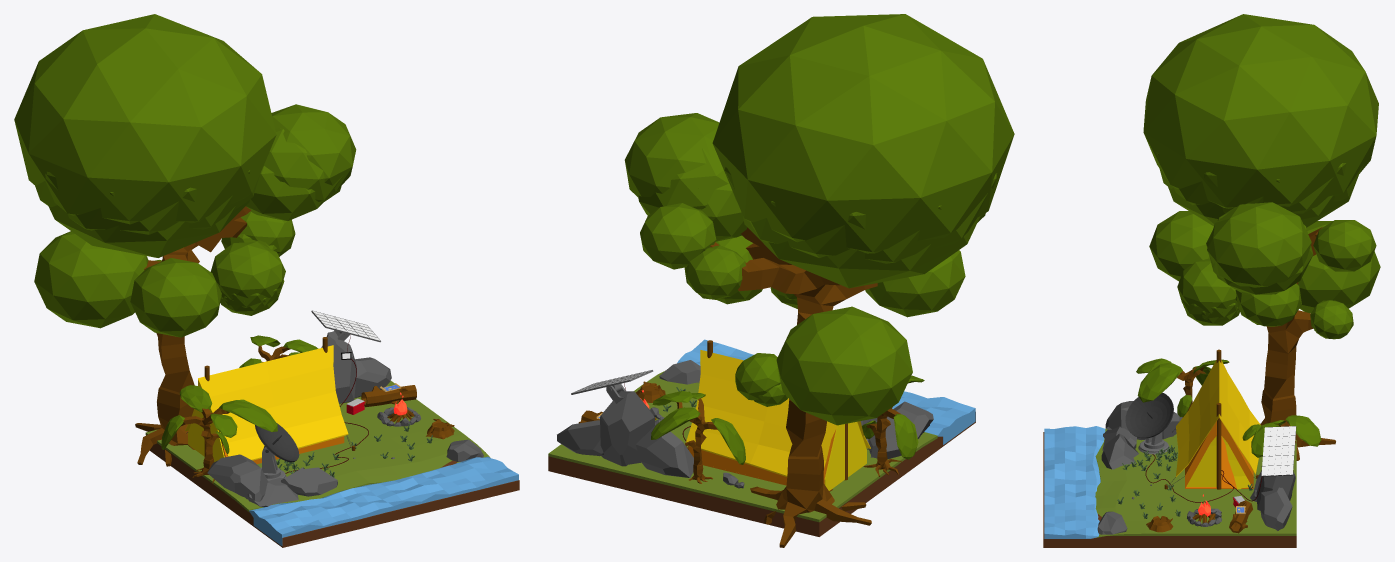
Rendered from camp_export6.glb.
The picture shows the model from 3 angles, left to right: view 1: azimuth 30°, elevation 25°; view 2: azimuth 150°, elevation 25°; view 3: azimuth 270°, elevation 25°; orthographic projection. The views are drawn at different scales.
Parts seen in each view (by area): view 1: Big tree leaves, Tent-main.001, Rock2.007, Rock2.003, Big Tree, Rock_1.004, Rock2.005, Small Tree Leaves 1, Rock2.001, Rock2.008, Satellite Dish, Small Tree 1 (+5 smaller); view 2: Big tree leaves, Big Tree, Tent-main.001, Rock2.007, Rock2.001, Rock2.005, Rock2.003, Rock2.008, Small Tree Leaves 2, Tent-main.002, Rock_1.004, Tent-main (+4 smaller); view 3: Big tree leaves, Rock2.007, Rock2.003, Tent-main.001, Big Tree, Rock2.005, Rock_1.004, Rock2.001, Small Tree Leaves 1, Satellite Dish, Tent-main, Cube.004 (+7 smaller).
Part boxes in pixels (x1=…): Big tree leaves: x1=14, y1=14, x2=356, y2=337; Tent-main.001: x1=185, y1=345, x2=348, y2=460; Rock2.007: x1=145, y1=380, x2=490, y2=511; Rock2.003: x1=249, y1=456, x2=518, y2=545; Big Tree: x1=135, y1=206, x2=251, y2=466; Rock_1.004: x1=207, y1=454, x2=337, y2=507; Rock2.005: x1=149, y1=445, x2=519, y2=547; Small Tree Leaves 1: x1=161, y1=385, x2=277, y2=453; Rock2.001: x1=321, y1=331, x2=391, y2=403; Rock2.008: x1=146, y1=435, x2=519, y2=539; Satellite Dish: x1=255, y1=423, x2=299, y2=462; Small Tree 1: x1=181, y1=408, x2=229, y2=483; Big tree leaves: x1=624, y1=14, x2=1014, y2=425; Big Tree: x1=710, y1=227, x2=877, y2=547; Tent-main.001: x1=686, y1=350, x2=870, y2=476; Rock2.007: x1=548, y1=371, x2=937, y2=522; Rock2.001: x1=557, y1=391, x2=744, y2=488; Rock2.005: x1=548, y1=412, x2=975, y2=536; Rock2.003: x1=677, y1=339, x2=975, y2=444; Rock2.008: x1=548, y1=370, x2=941, y2=527; Small Tree Leaves 2: x1=651, y1=391, x2=745, y2=464; Tent-main.002: x1=824, y1=422, x2=866, y2=490; Rock_1.004: x1=863, y1=401, x2=933, y2=458; Tent-main: x1=688, y1=430, x2=835, y2=485; Big tree leaves: x1=1143, y1=14, x2=1380, y2=339; Rock2.007: x1=1095, y1=429, x2=1296, y2=537; Rock2.003: x1=1044, y1=426, x2=1105, y2=538; Tent-main.001: x1=1175, y1=360, x2=1260, y2=477; Big Tree: x1=1260, y1=227, x2=1335, y2=460; Rock2.005: x1=1043, y1=539, x2=1296, y2=547; Rock_1.004: x1=1101, y1=401, x2=1182, y2=469; Rock2.001: x1=1250, y1=470, x2=1295, y2=530; Small Tree Leaves 1: x1=1136, y1=358, x2=1229, y2=416; Satellite Dish: x1=1125, y1=392, x2=1173, y2=438; Tent-main: x1=1185, y1=421, x2=1253, y2=488; Cube.004: x1=1261, y1=426, x2=1295, y2=475.
Size of the model in its own units: 12.55 by 14.44 by 10.65.
